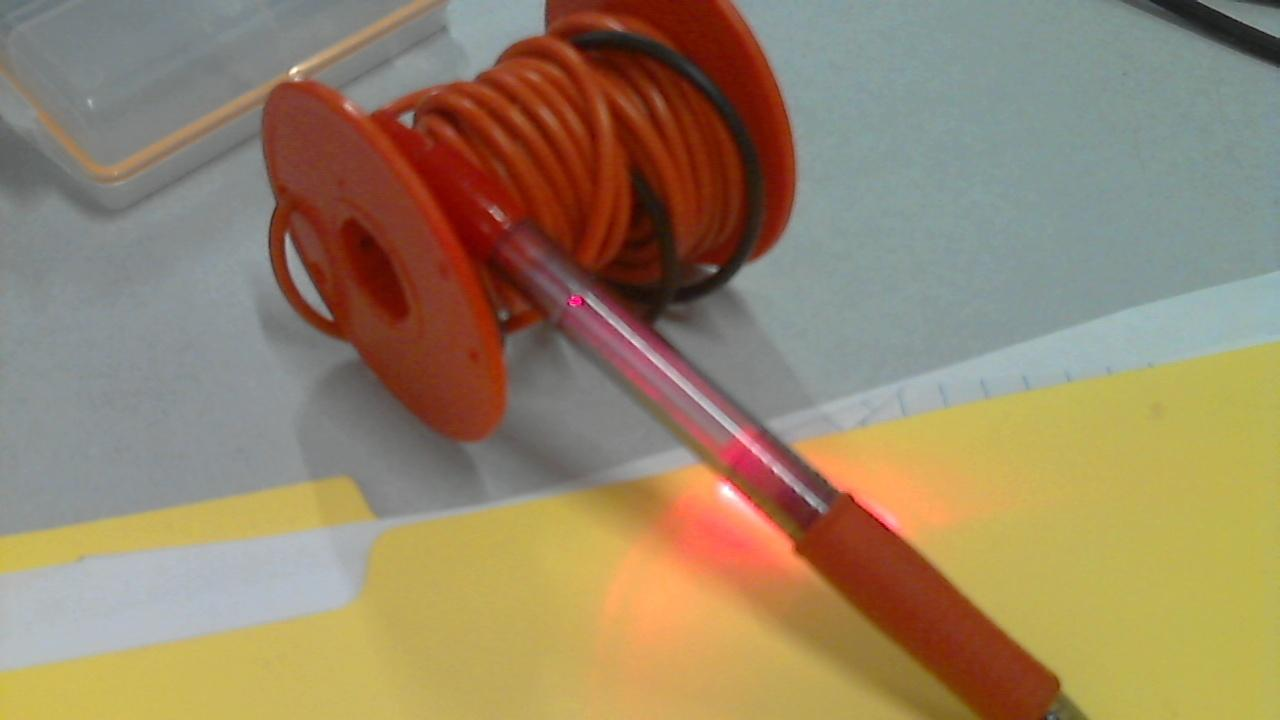Object ballpoint pen - Material plastic - Color clear - Pdfname Tg2wygrqE5uZ: (550, 278, 817, 494)
